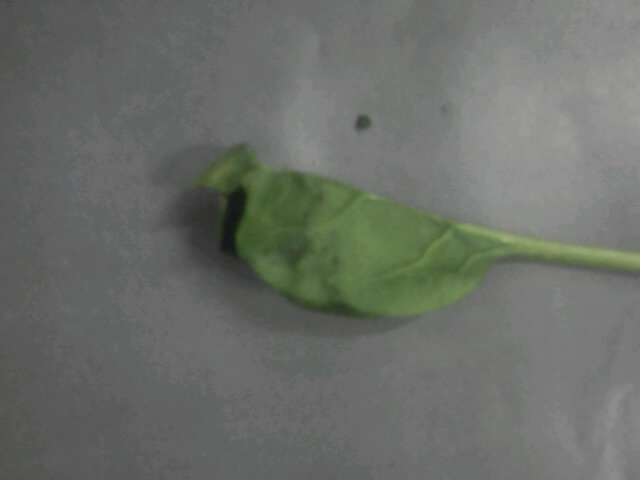yellow: (156, 130, 604, 337)
